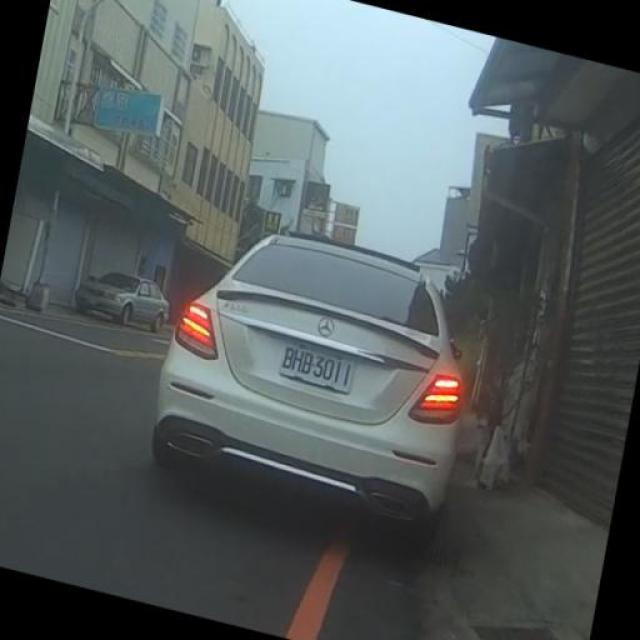illegalparking: (137, 162, 525, 580)
